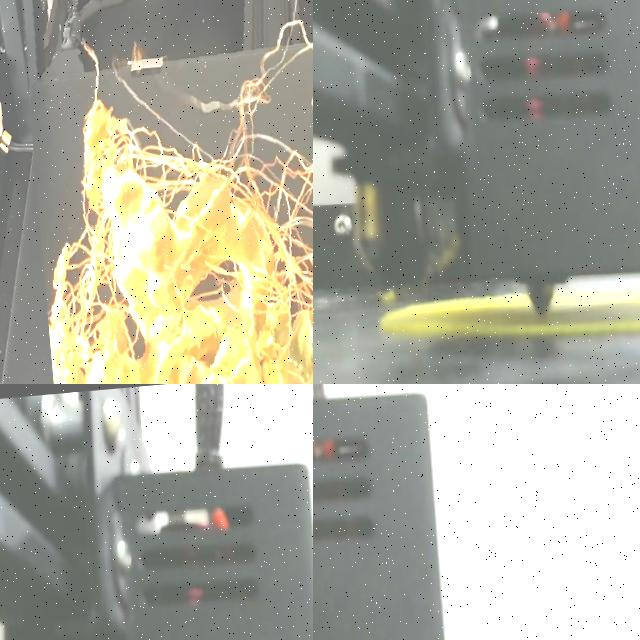spaghetti: (48, 28, 313, 384)
